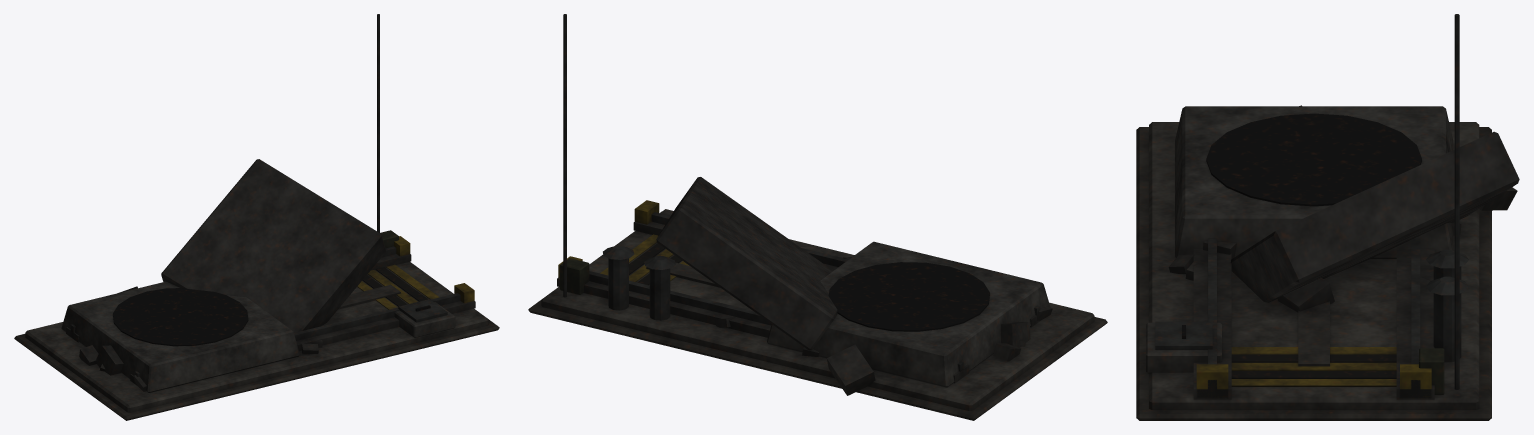
File: mslo-wreck.glb
The picture shows the model from 3 angles, left to right: view 1: azimuth 30°, elevation 25°; view 2: azimuth 150°, elevation 25°; view 3: azimuth 270°, elevation 25°; orthographic projection. The views are drawn at different scales.
Visible parts, largest first — view 1: hull; view 2: hull; view 3: hull.
Boxes of the visible parts, left/top/right/bottom form: hull: left=14, top=14, right=499, bottom=420; hull: left=528, top=14, right=1107, bottom=420; hull: left=1136, top=14, right=1519, bottom=420.
Size of the model in its own units: 10.8 by 7.31 by 6.04.
Materials: 1 (1 with a texture image).
